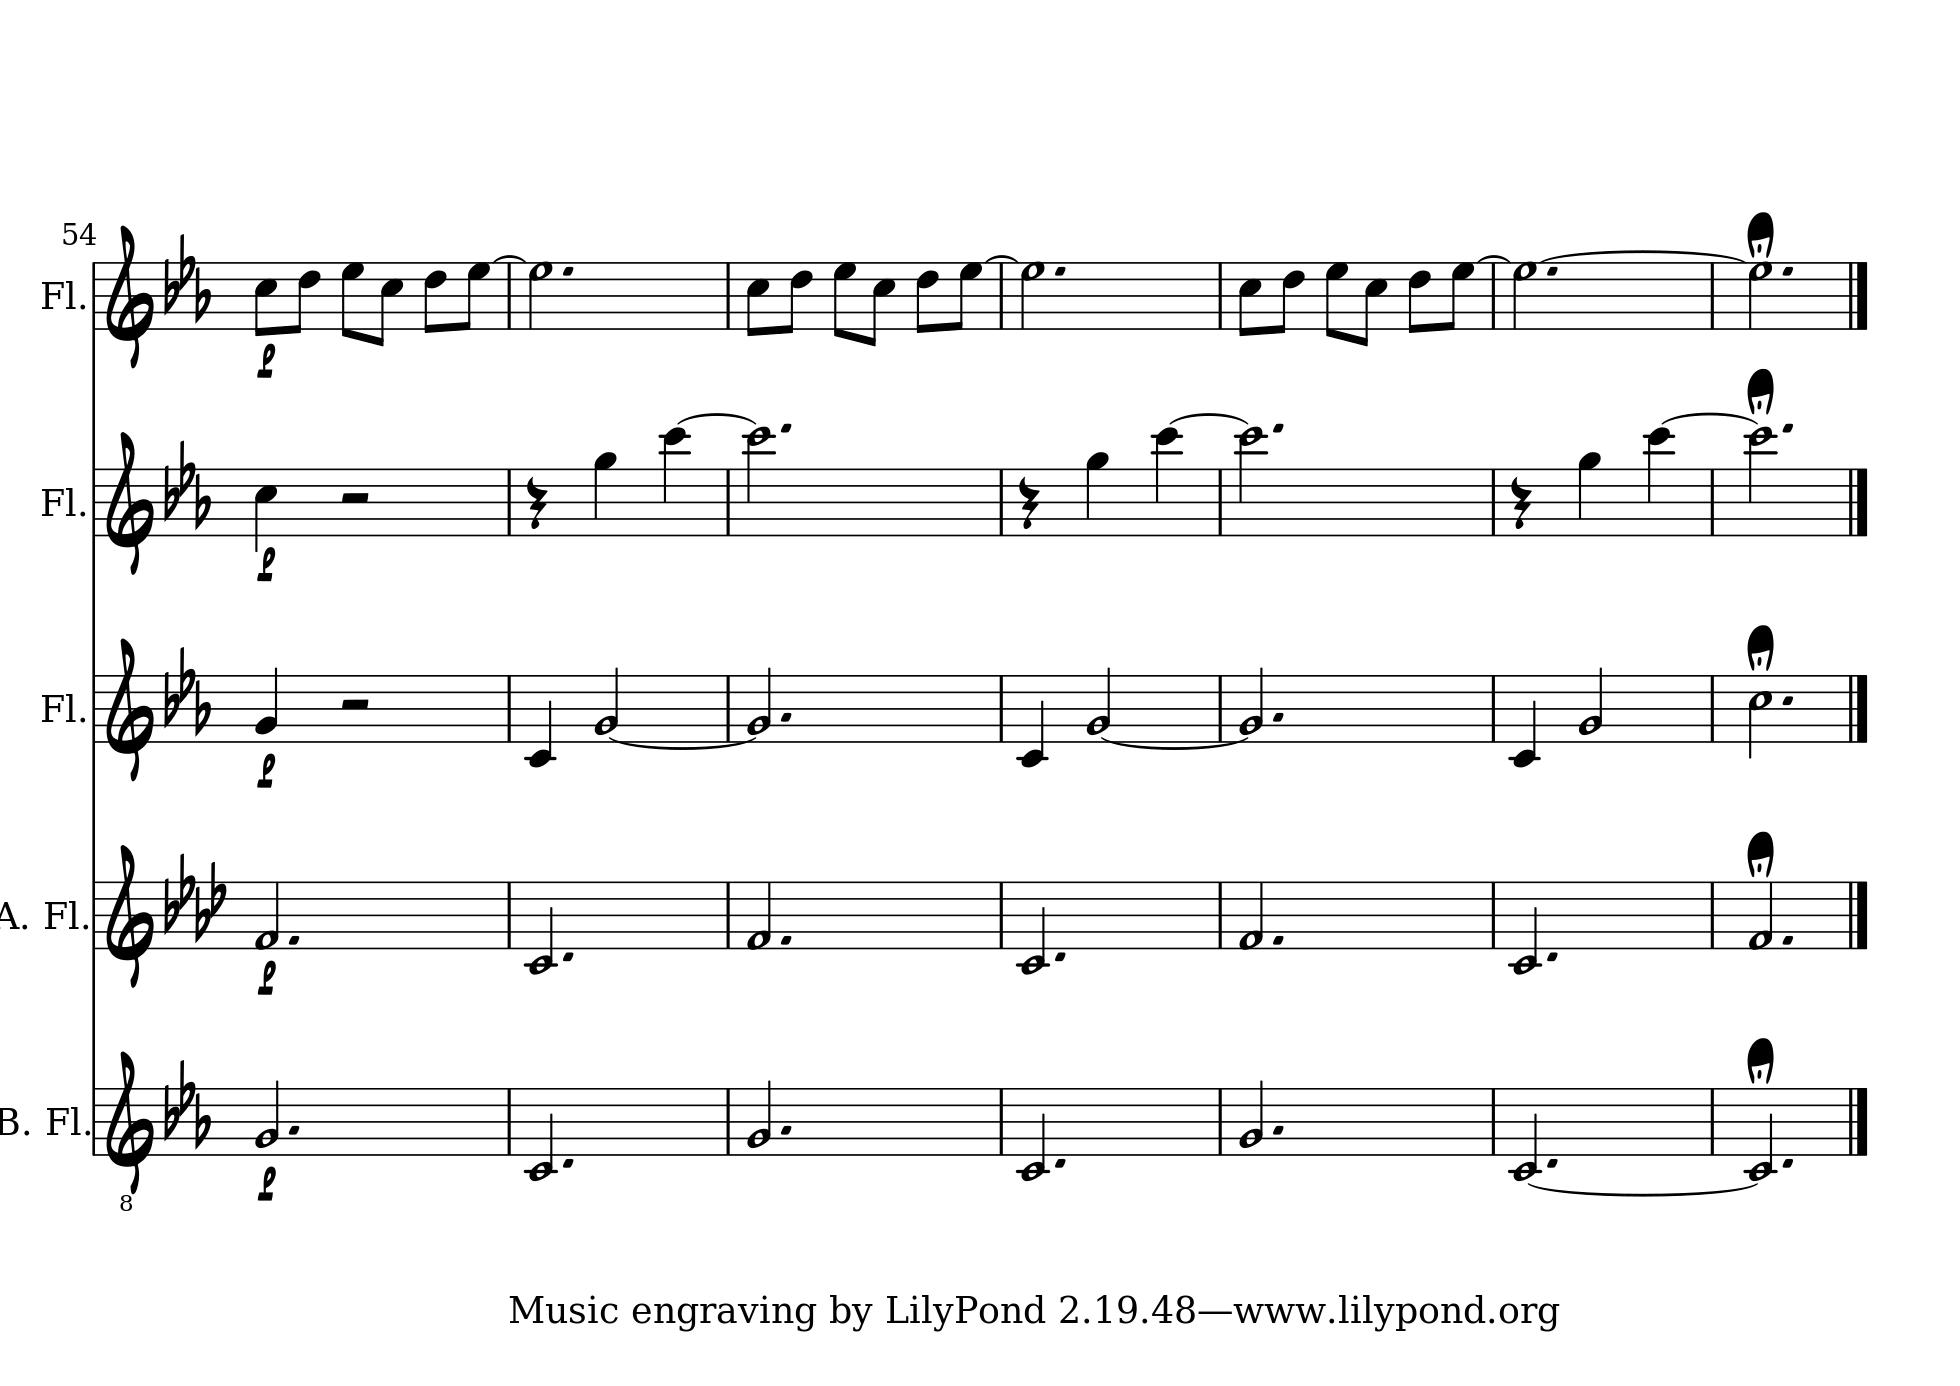2_-2: (1509, 879, 1542, 976), (523, 879, 556, 975), (1017, 879, 1050, 975), (1017, 1084, 1050, 1180), (525, 1084, 556, 1180), (1510, 1084, 1542, 1180), (1746, 1084, 1776, 1180)
2_1: (745, 879, 774, 952), (1747, 879, 1776, 952), (1237, 879, 1266, 951), (253, 879, 280, 952)
2_12: (742, 424, 775, 538), (1236, 424, 1266, 540), (1746, 424, 1774, 541)
2_2: (1578, 664, 1606, 744), (592, 664, 621, 742), (1237, 664, 1266, 742), (1237, 1078, 1266, 1156), (745, 664, 772, 742), (1086, 664, 1113, 742), (253, 1078, 280, 1156), (745, 1078, 772, 1156)
2_5: (1746, 672, 1774, 760)
2_7: (1510, 259, 1539, 331), (1747, 259, 1776, 331), (526, 259, 553, 331), (1020, 259, 1045, 331)
4: (79, 220, 97, 247)
4_-2: (1509, 672, 1540, 769), (523, 672, 555, 768), (1017, 672, 1047, 768)
4_12: (660, 426, 691, 538), (1152, 426, 1182, 538), (1644, 426, 1674, 538)
4_2: (253, 664, 280, 742)
4_5: (253, 466, 277, 550)
4_9: (592, 450, 618, 538), (1084, 450, 1110, 538), (1576, 450, 1602, 538)
5: (61, 219, 78, 246)
8_5: (1357, 259, 1389, 346), (373, 259, 403, 348), (865, 259, 895, 346), (1236, 259, 1263, 337), (744, 259, 769, 337), (253, 259, 277, 339)
8_6: (289, 259, 322, 334), (781, 259, 814, 334), (1275, 259, 1306, 334), (423, 259, 448, 334), (915, 259, 940, 334), (1407, 259, 1432, 334)
8_7: (1443, 259, 1476, 331), (459, 259, 490, 331), (951, 259, 982, 331), (339, 259, 364, 340), (1324, 259, 1350, 340), (832, 259, 856, 340)
A_F: (163, 850, 228, 943), (160, 643, 213, 736), (162, 1056, 213, 1150)
E_F: (160, 438, 211, 528), (162, 231, 211, 322)
Final_barline: (1845, 1086, 1872, 1155), (1845, 259, 1872, 327), (1845, 466, 1872, 534), (1845, 673, 1872, 741), (1845, 880, 1870, 948)
Fl: (39, 483, 76, 519), (39, 688, 76, 724), (42, 897, 79, 933), (43, 1102, 82, 1137), (39, 277, 76, 312)
Gclef: (103, 636, 156, 783), (103, 429, 154, 577), (103, 222, 154, 369), (103, 841, 154, 988)
Lower_Gclef: (105, 1051, 156, 1213)
Rests2: (336, 487, 373, 508), (336, 694, 373, 714)
Rests4: (523, 474, 547, 531), (1509, 474, 1533, 531), (1017, 475, 1041, 531)
Single_barline: (718, 261, 736, 328), (1212, 261, 1230, 328), (499, 468, 517, 535), (993, 468, 1011, 535), (1485, 468, 1503, 535), (993, 1087, 1011, 1155), (1212, 880, 1230, 946), (1704, 262, 1722, 327), (1704, 469, 1722, 532), (994, 673, 1011, 741), (502, 262, 519, 328), (994, 262, 1011, 328), (720, 468, 736, 534), (1212, 468, 1228, 534), (1212, 673, 1228, 739), (1704, 673, 1720, 739), (1486, 675, 1503, 741), (720, 880, 736, 946), (501, 882, 517, 948), (993, 882, 1009, 948), (1485, 882, 1501, 948), (501, 1087, 517, 1153), (1212, 1087, 1228, 1153), (1485, 1089, 1501, 1155), (1486, 264, 1503, 328), (720, 675, 736, 739), (1704, 882, 1720, 946), (720, 1089, 736, 1153), (1704, 1087, 1719, 1153), (502, 676, 517, 739), (87, 880, 100, 949), (87, 261, 100, 328), (87, 468, 100, 535), (87, 675, 100, 742), (87, 1087, 100, 1155)
Slur: (1659, 411, 1759, 426), (676, 411, 757, 424), (1168, 411, 1249, 424), (985, 253, 1018, 262), (493, 253, 526, 262), (1477, 253, 1509, 262)
dot: (1780, 691, 1800, 709), (1780, 418, 1797, 436), (559, 946, 576, 964), (559, 1153, 576, 1171), (1776, 931, 1795, 946), (778, 420, 795, 436), (1269, 709, 1287, 724), (1269, 931, 1287, 946), (1053, 946, 1068, 964), (1545, 946, 1560, 964), (1053, 1153, 1068, 1171), (1545, 1153, 1560, 1171), (1782, 1153, 1797, 1171), (1272, 420, 1287, 436), (777, 709, 793, 724), (777, 931, 793, 946), (285, 1120, 301, 1135), (285, 931, 301, 945), (777, 1122, 793, 1135), (561, 262, 574, 277), (1053, 264, 1068, 277), (1270, 1122, 1285, 1135), (1545, 265, 1560, 277)
p: (253, 342, 277, 381), (253, 751, 277, 790), (255, 958, 279, 997), (255, 1164, 277, 1203), (255, 546, 277, 583)
